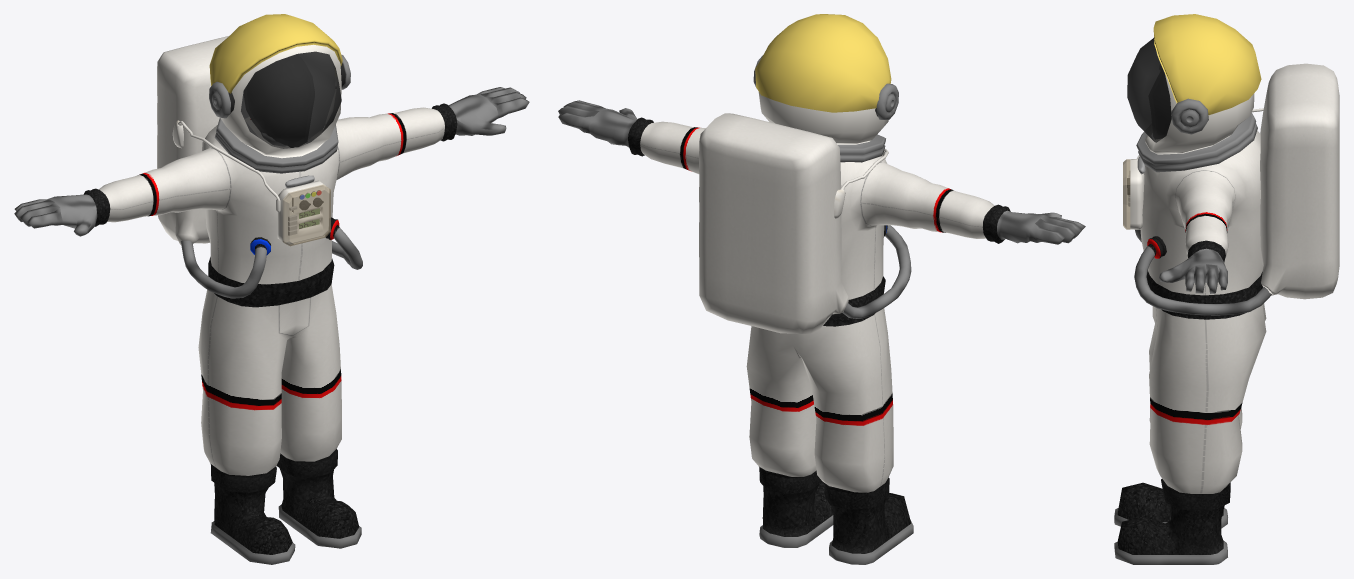
Rendered from astro.fbx.
3 renders of one model, left to right at view 1: azimuth 30°, elevation 25°; view 2: azimuth 150°, elevation 25°; view 3: azimuth 270°, elevation 25°, orthographic. The views are drawn at different scales.
Parts seen in each view (by area): view 1: pCube3, pCylinder3, pCube2, pCube13, pSphere3, pCube10, pCube4, pCylinder16, pCylinder5, pCylinder19, pCylinder2; view 2: pCube3, pCube2, pSphere3, pCylinder3, pCylinder5, pCylinder2; view 3: pCube3, pCube2, pCylinder3, pSphere3, pCylinder19, pCube13, pCylinder18, pCube4, pCube10.
Part boxes in pixels (x1=…): pCube3: x1=14, y1=87, x2=529, y2=564; pCylinder3: x1=214, y1=44, x2=341, y2=173; pCube2: x1=157, y1=35, x2=229, y2=244; pCube13: x1=244, y1=55, x2=314, y2=146; pSphere3: x1=209, y1=14, x2=342, y2=93; pCube10: x1=282, y1=184, x2=330, y2=246; pCube4: x1=277, y1=180, x2=328, y2=244; pCylinder16: x1=241, y1=52, x2=335, y2=144; pCylinder5: x1=180, y1=240, x2=266, y2=298; pCylinder19: x1=332, y1=225, x2=362, y2=269; pCylinder2: x1=209, y1=81, x2=234, y2=118; pCube3: x1=558, y1=100, x2=1085, y2=564; pCube2: x1=699, y1=113, x2=848, y2=333; pSphere3: x1=755, y1=14, x2=891, y2=112; pCylinder3: x1=758, y1=92, x2=888, y2=162; pCylinder5: x1=842, y1=225, x2=911, y2=318; pCylinder2: x1=875, y1=83, x2=898, y2=119; pCube3: x1=1114, y1=130, x2=1266, y2=564; pCube2: x1=1260, y1=63, x2=1339, y2=299; pCylinder3: x1=1127, y1=38, x2=1257, y2=172; pSphere3: x1=1153, y1=14, x2=1261, y2=115; pCylinder19: x1=1134, y1=244, x2=1271, y2=315; pCube13: x1=1149, y1=69, x2=1170, y2=138; pCylinder18: x1=1171, y1=98, x2=1208, y2=134; pCube4: x1=1130, y1=159, x2=1144, y2=229; pCube10: x1=1123, y1=159, x2=1130, y2=229.
Size of the model in its own units: 4.07 by 3.94 by 1.55.
